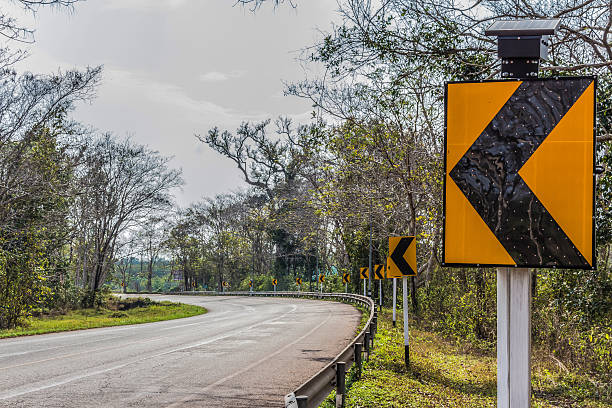left turn: (444, 81, 596, 269), (387, 237, 419, 277), (374, 264, 384, 280), (360, 267, 369, 279), (342, 274, 350, 282), (319, 275, 326, 282), (296, 278, 302, 285), (272, 279, 278, 285), (249, 280, 253, 287), (222, 280, 226, 287), (192, 282, 196, 287)
